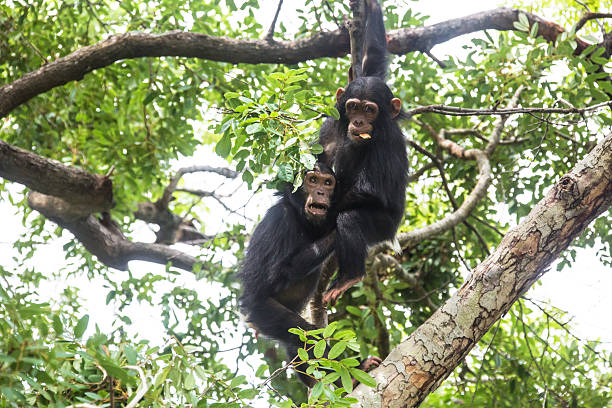chimpanzee: (328, 77, 406, 155), (276, 153, 335, 234)
